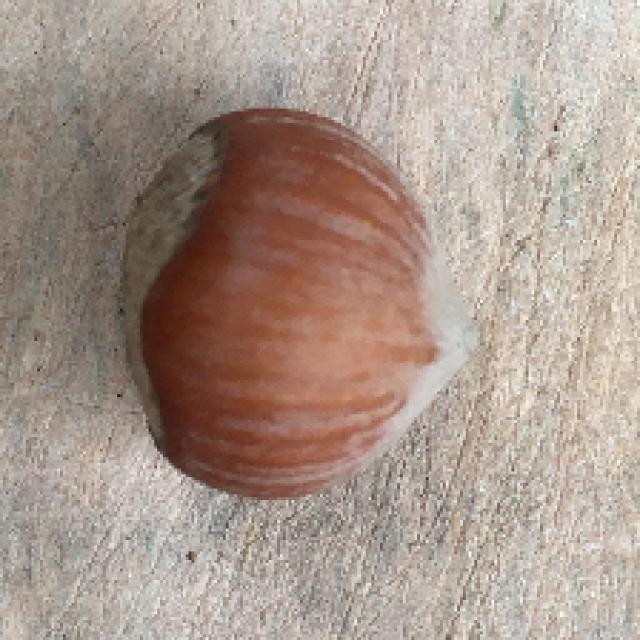qualityHazelnut: (104, 99, 468, 501)
